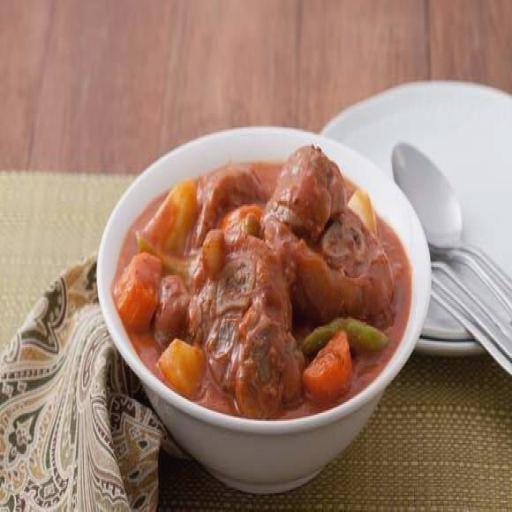pork caldereta: (114, 149, 401, 419)
